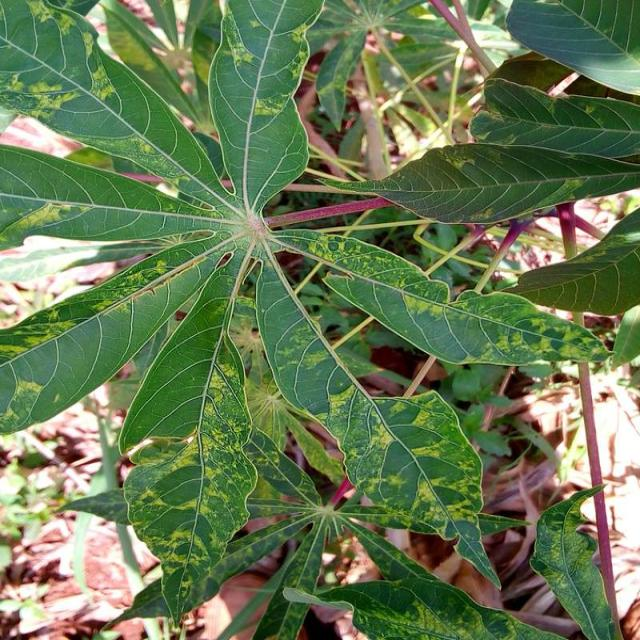cassava leaf: (2, 0, 632, 635)
